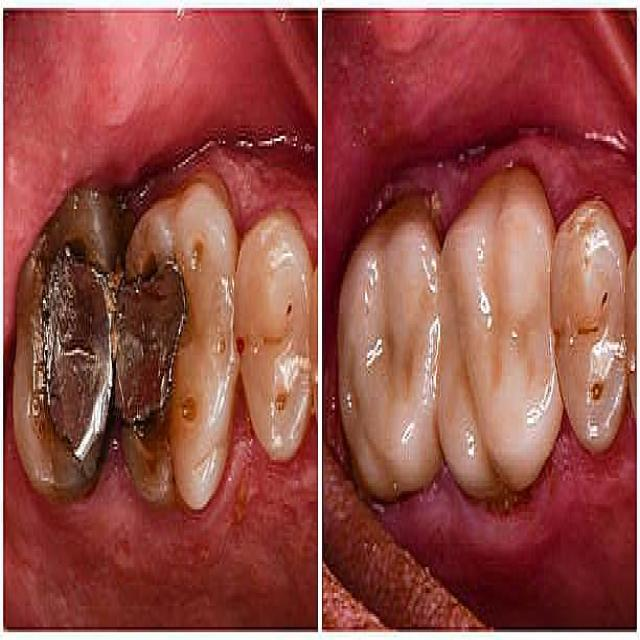caries: (34, 257, 108, 460), (116, 255, 175, 430), (208, 309, 261, 368), (179, 378, 201, 444), (184, 225, 207, 287), (586, 374, 606, 434), (270, 368, 290, 426), (280, 286, 303, 334), (597, 271, 614, 328)
